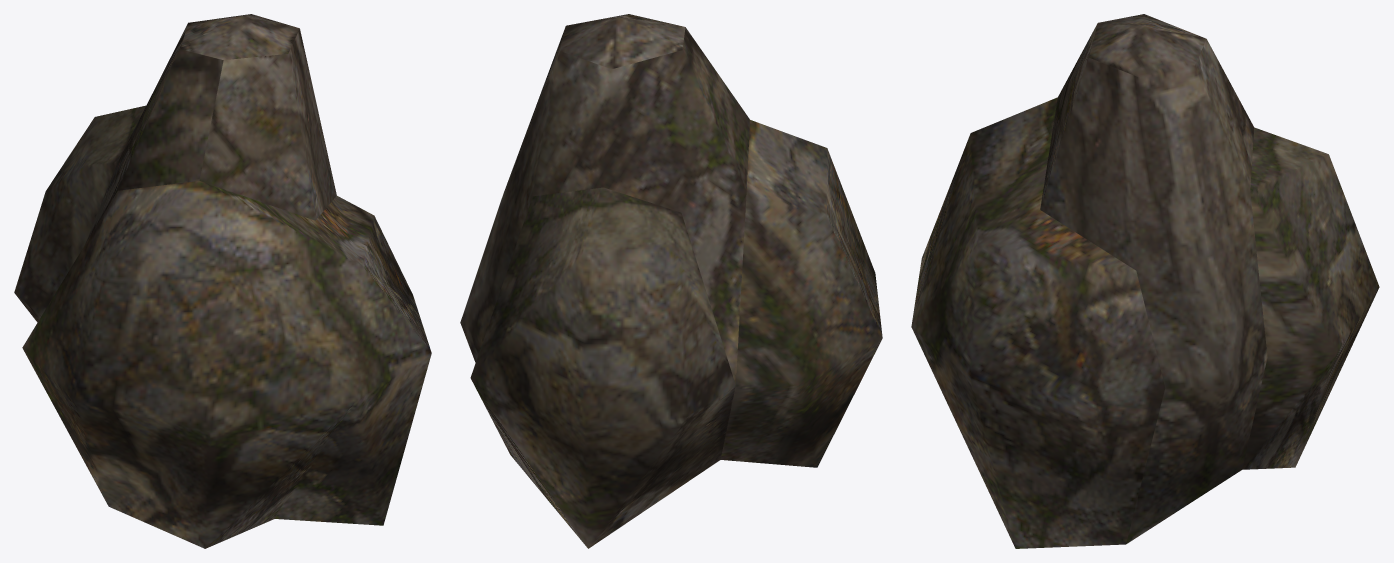
File: Rock04.FBX
The picture shows the model from 3 angles, left to right: view 1: azimuth 30°, elevation 25°; view 2: azimuth 150°, elevation 25°; view 3: azimuth 270°, elevation 25°; orthographic projection.
Visible parts, largest first — view 1: Rock04; view 2: Rock04; view 3: Rock04.
Boxes of the visible parts, bbox=[...] form: Rock04: bbox=[14, 14, 431, 548]; Rock04: bbox=[460, 14, 882, 548]; Rock04: bbox=[911, 14, 1379, 548].
Size of the model in its own units: 164 by 208 by 182.
